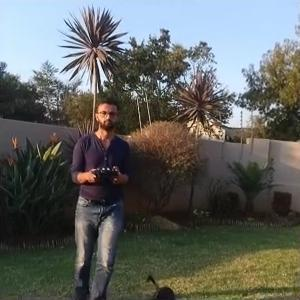follow: (63, 99, 133, 298)
